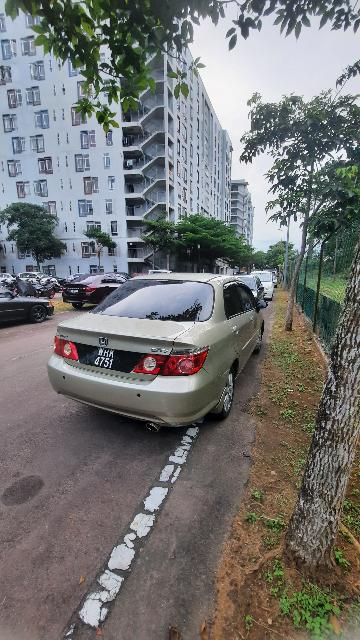License_Plate: (74, 344, 149, 376)
car: (35, 271, 270, 431)
